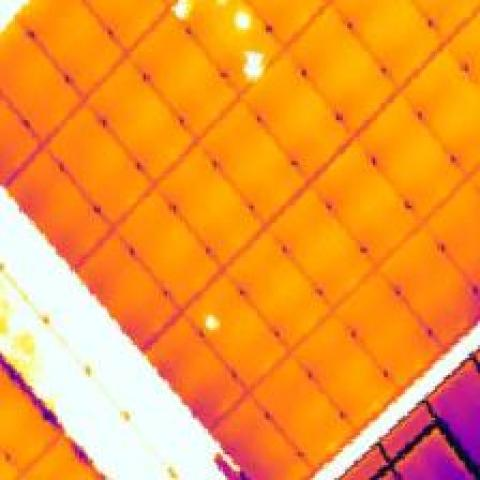fault: (240, 45, 266, 86), (229, 6, 255, 38), (169, 2, 195, 28), (199, 311, 225, 334)
